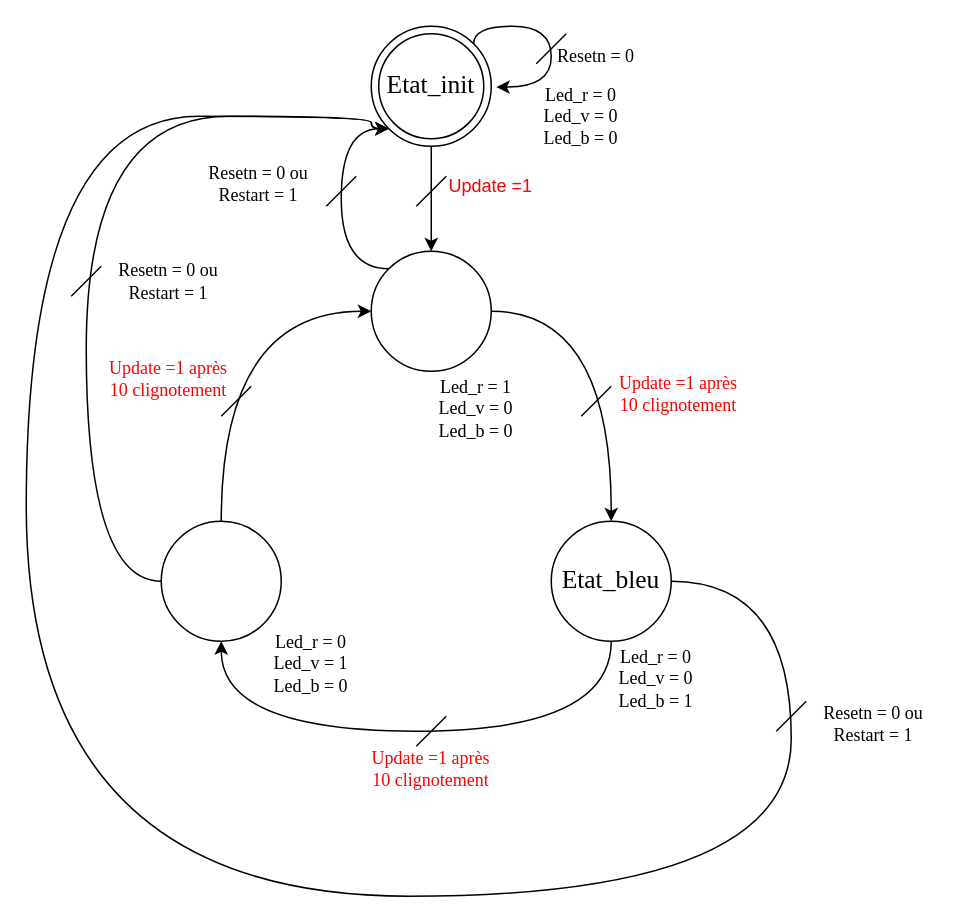
The diagram is 968 pixels wide and 923 high, and some of its shapes have lost their labels. Here are the shapes that lost their labels. From the top down, the box of each, then its label:
(370, 250, 491, 371): Etat_rouge
(160, 520, 281, 641): Etat_vert
